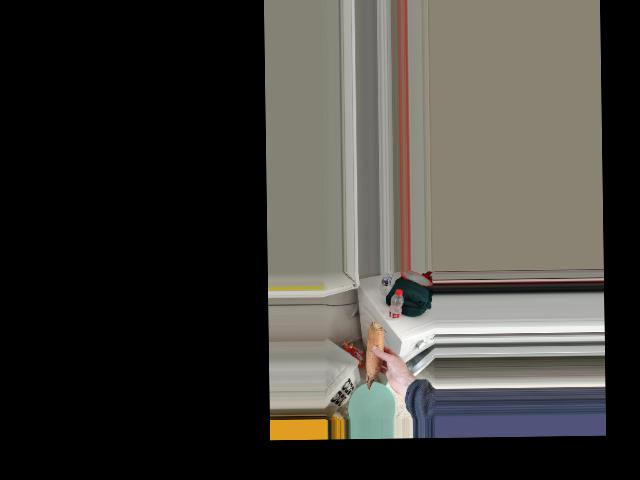sweet_potato: (364, 320, 387, 388)
